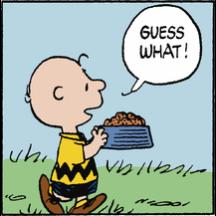charlie: (24, 52, 110, 216)
